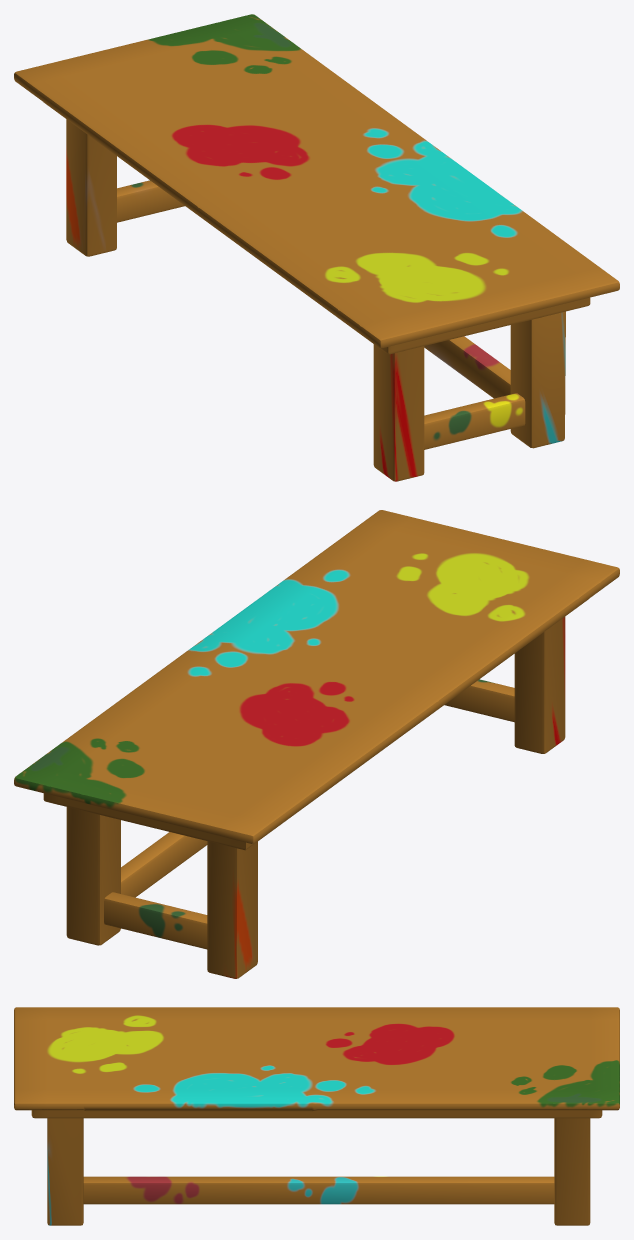
The model's file is MA_Prop_Table_For_game.fbx.
3 views of the same model, one above another, from view 1: azimuth 30°, elevation 25°; view 2: azimuth 150°, elevation 25°; view 3: azimuth 270°, elevation 25° (orthographic). The views are drawn at different scales.
Visible parts, largest first — view 1: Box001; view 2: Box001; view 3: Box001.
Part boxes in pixels (x1,y1,x2,y2): Box001: [14, 14, 619, 481]; Box001: [14, 510, 619, 978]; Box001: [14, 1007, 619, 1225].
Size of the model in its own units: 60 by 39.59 by 158.
